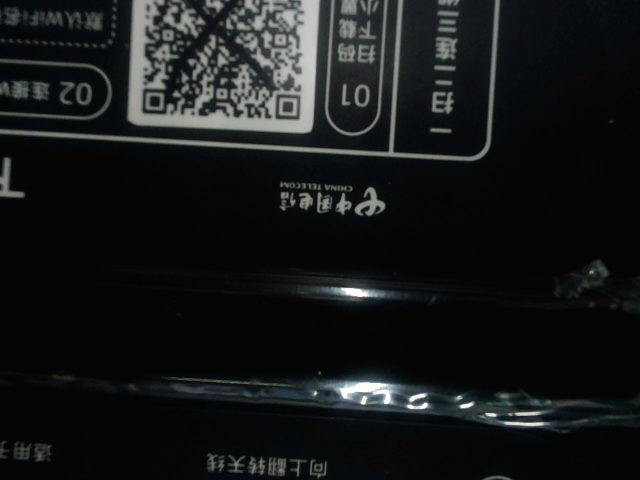AB_ChinaTelecom: (269, 172, 389, 225)
